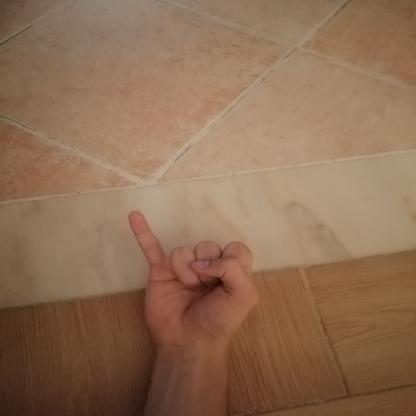MEEM: (112, 199, 280, 373)
